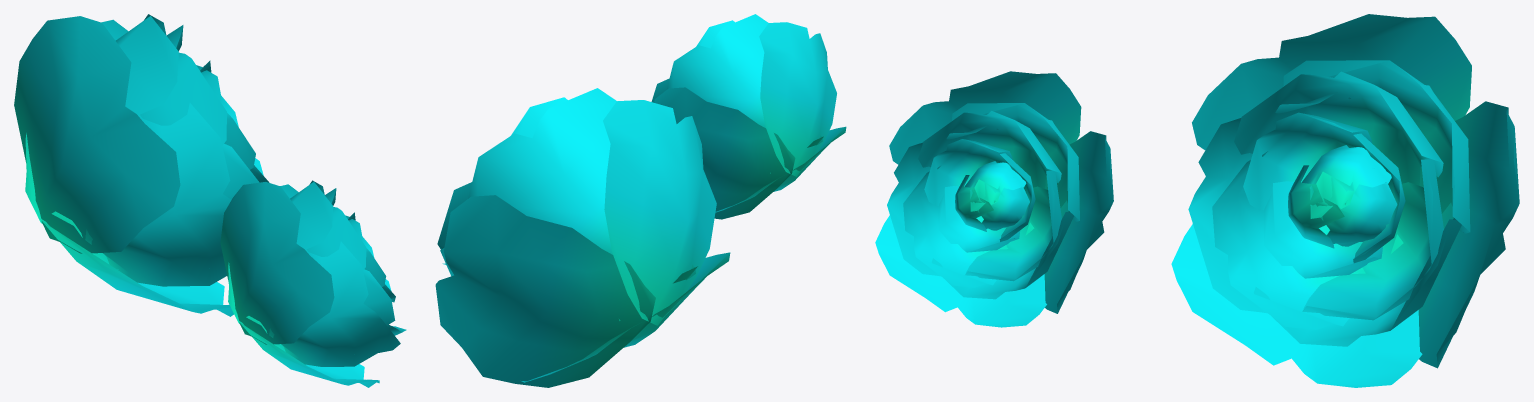
Rendered from Blue_flowers.fbx.
The picture shows the model from 3 angles, left to right: view 1: azimuth 30°, elevation 25°; view 2: azimuth 150°, elevation 25°; view 3: azimuth 270°, elevation 25°; orthographic projection. The views are drawn at different scales.
Visible parts, largest first — view 1: blueFlower2, blueFlower1; view 2: blueFlower2, blueFlower1; view 3: blueFlower2, blueFlower1.
Part boxes in pixels (x1=…): blueFlower2: x1=14, y1=14, x2=269, y2=316; blueFlower1: x1=220, y1=180, x2=406, y2=387; blueFlower2: x1=435, y1=88, x2=730, y2=387; blueFlower1: x1=651, y1=14, x2=846, y2=219; blueFlower2: x1=1171, y1=14, x2=1519, y2=387; blueFlower1: x1=875, y1=71, x2=1113, y2=327.
Bounding box in the file's own units: 52.64 × 66.12 × 121.
